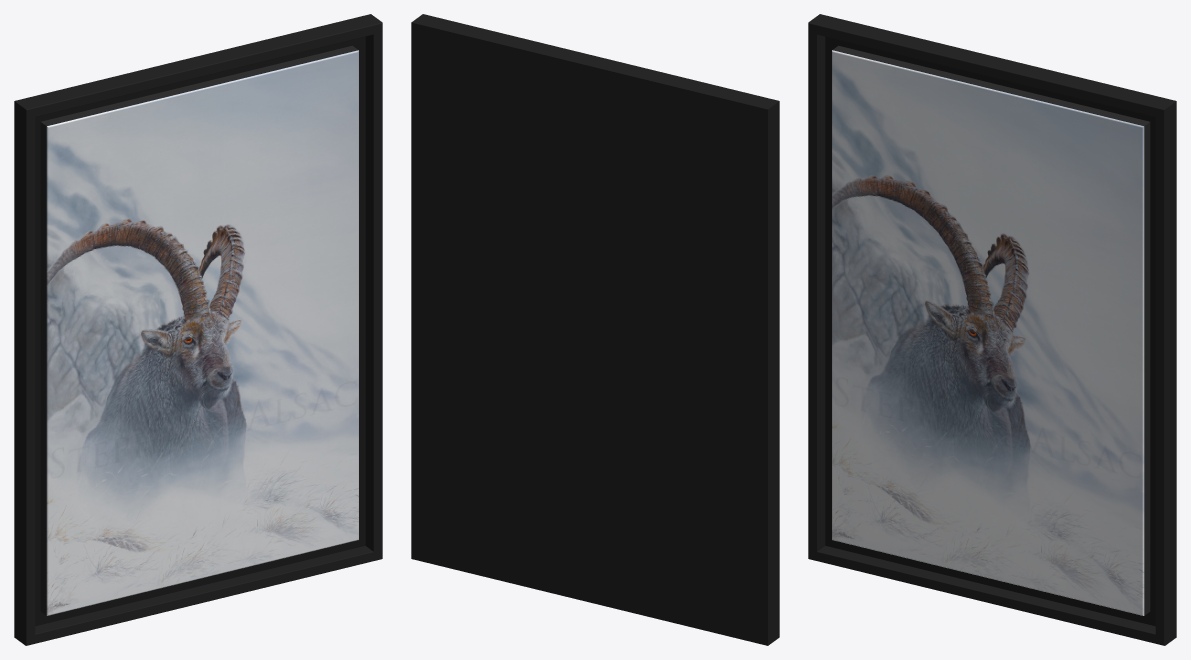
Rendered from tableau-peinture-ibex-classique-1cce6a9e.glb.
The picture shows the model from 3 angles, left to right: view 1: azimuth 30°, elevation 25°; view 2: azimuth 150°, elevation 25°; view 3: azimuth 330°, elevation 25°; orthographic projection.
Visible parts, largest first — view 1: Painting; view 2: Painting; view 3: Painting.
Part boxes in pixels (x1,y1,x2,y2): Painting: (14,14,382,645); Painting: (411,14,779,645); Painting: (808,14,1176,645).
Bounding box in the file's own units: 0.686 × 0.986 × 0.04.
Materials: 4 (2 with a texture image).
